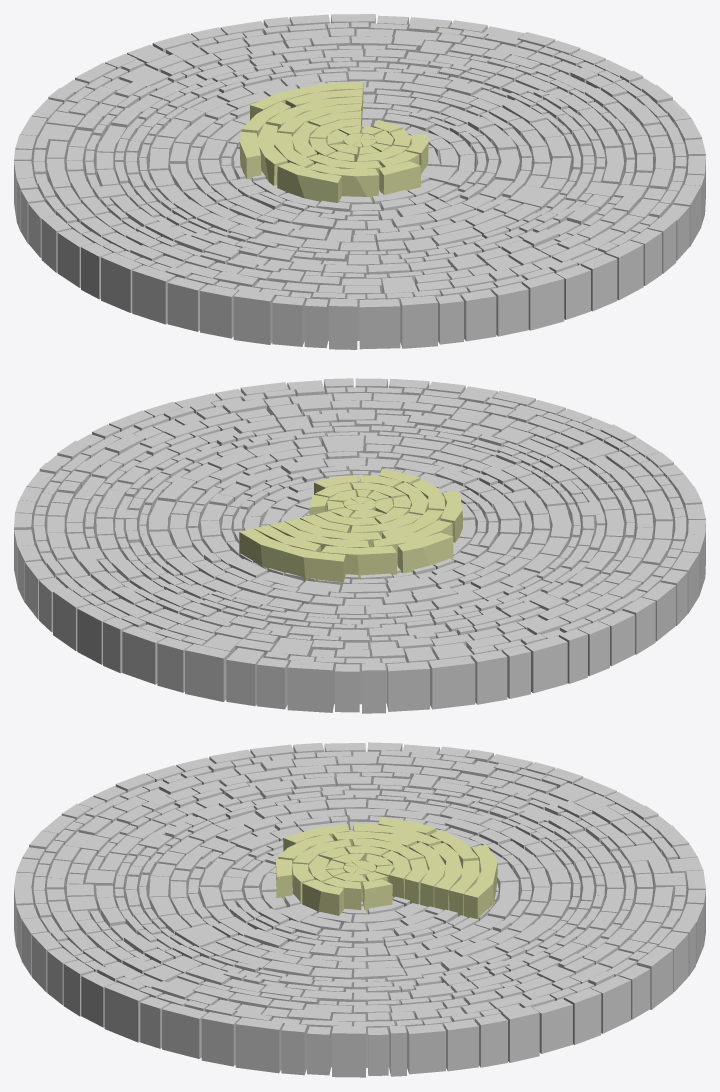
The model's file is respawn platform.fbx.
The picture shows the model from 3 angles, top to bottom: view 1: azimuth 30°, elevation 25°; view 2: azimuth 150°, elevation 25°; view 3: azimuth 270°, elevation 25°; orthographic projection.
Parts seen in each view (by area): view 1: Wall.001; view 2: Wall.001; view 3: Wall.001.
Boxes of the visible parts, bbox=[...] form: Wall.001: bbox=[14, 14, 705, 349]; Wall.001: bbox=[14, 378, 705, 713]; Wall.001: bbox=[14, 742, 705, 1077].
Size of the model in its own units: 345 by 35.22 by 345.
